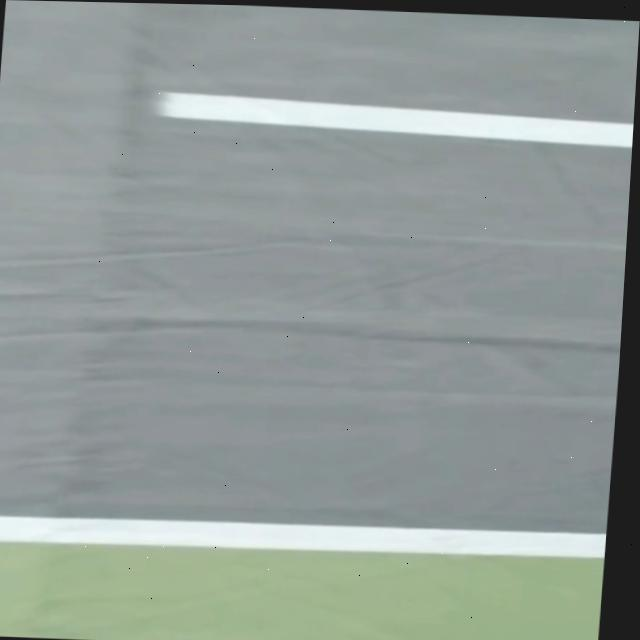center: (156, 92, 634, 146)
right: (0, 514, 606, 556)
